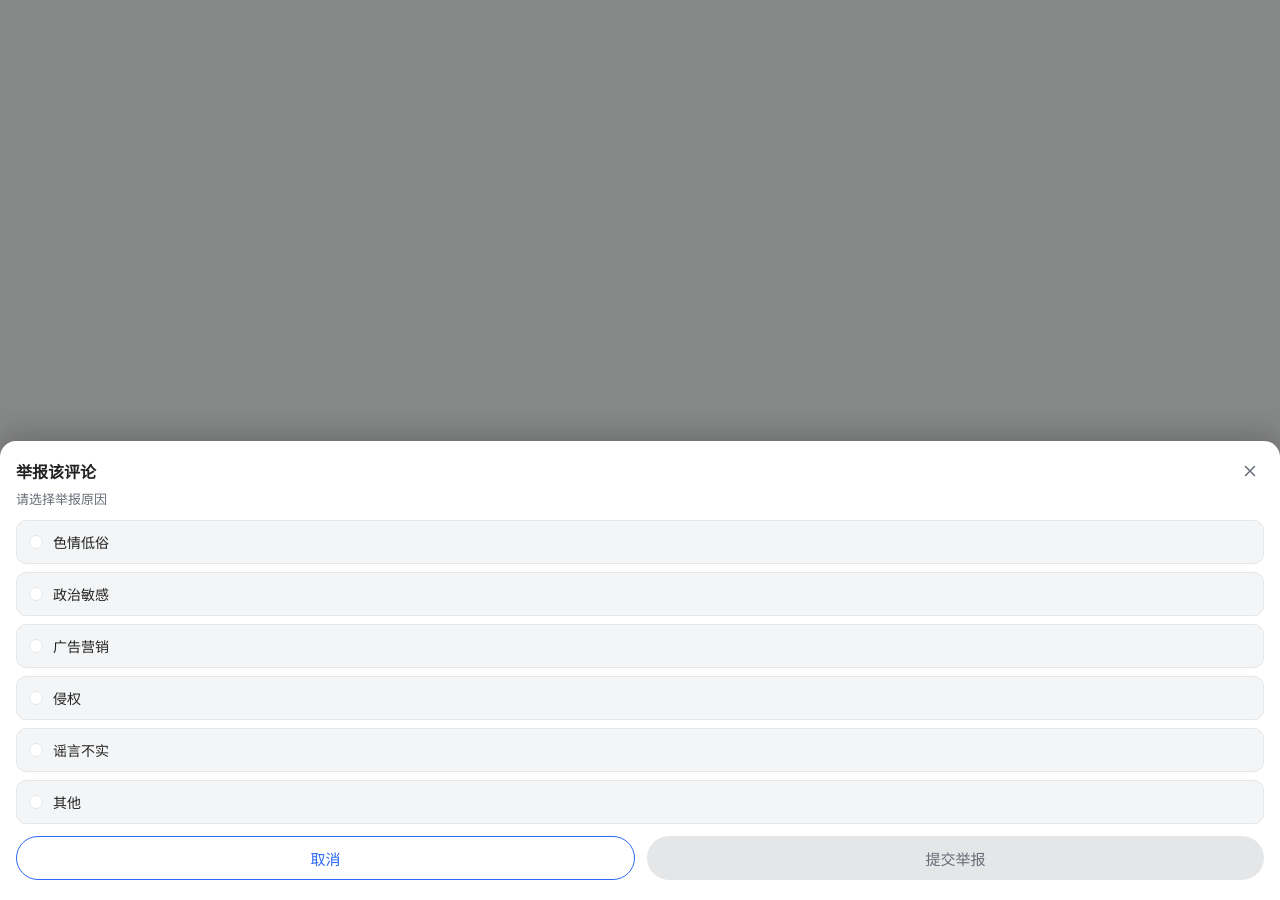
Test case: components/ReportDialog 举报分类弹窗 › 提交失败时显示服务端提示且停留在选择态（可改理由重试）
Click the radio button with class "reason" showing "政治敏感" at (81, 594), box [16, 572, 1264, 616]
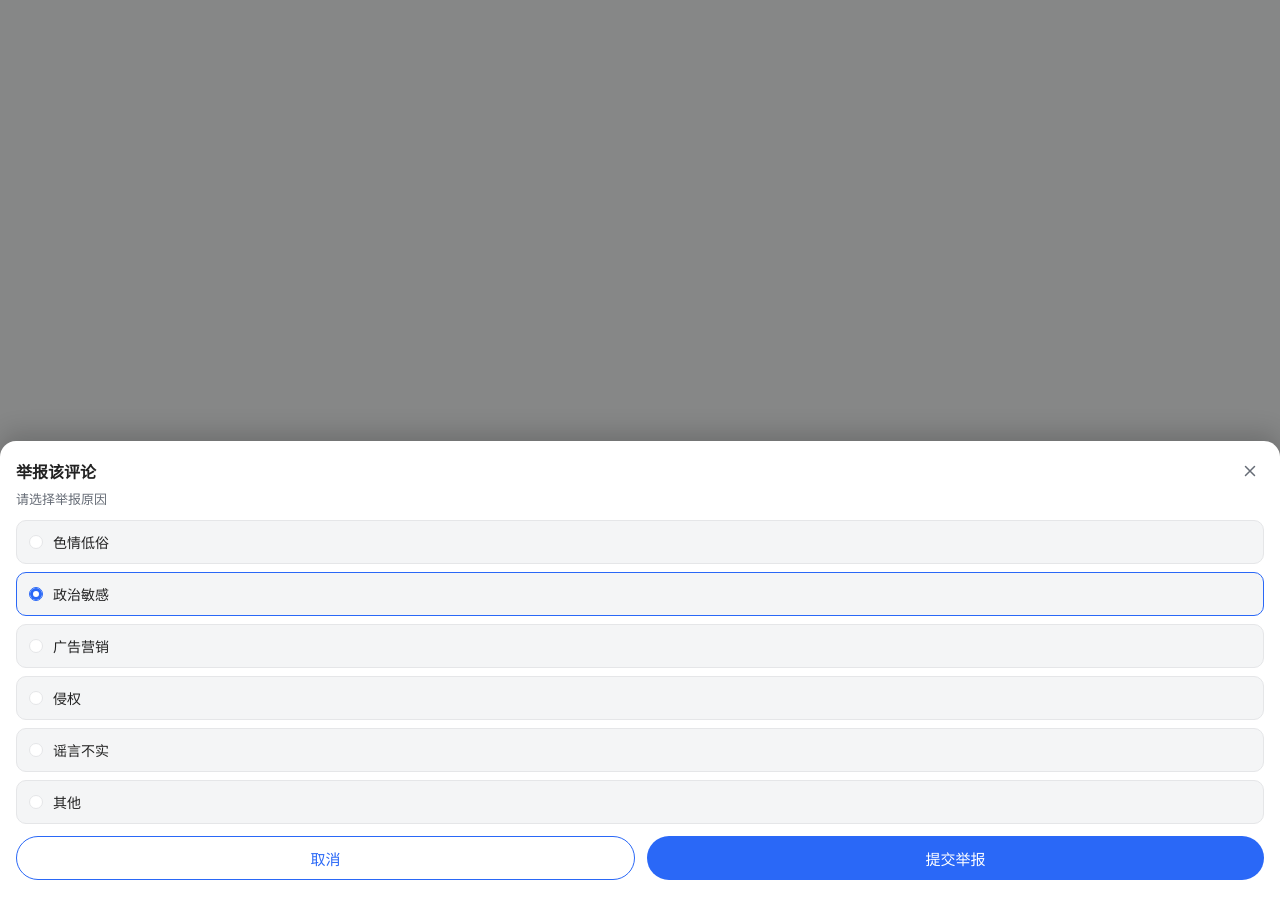
Click the button "提交举报" at (956, 858), box [647, 836, 1264, 880]
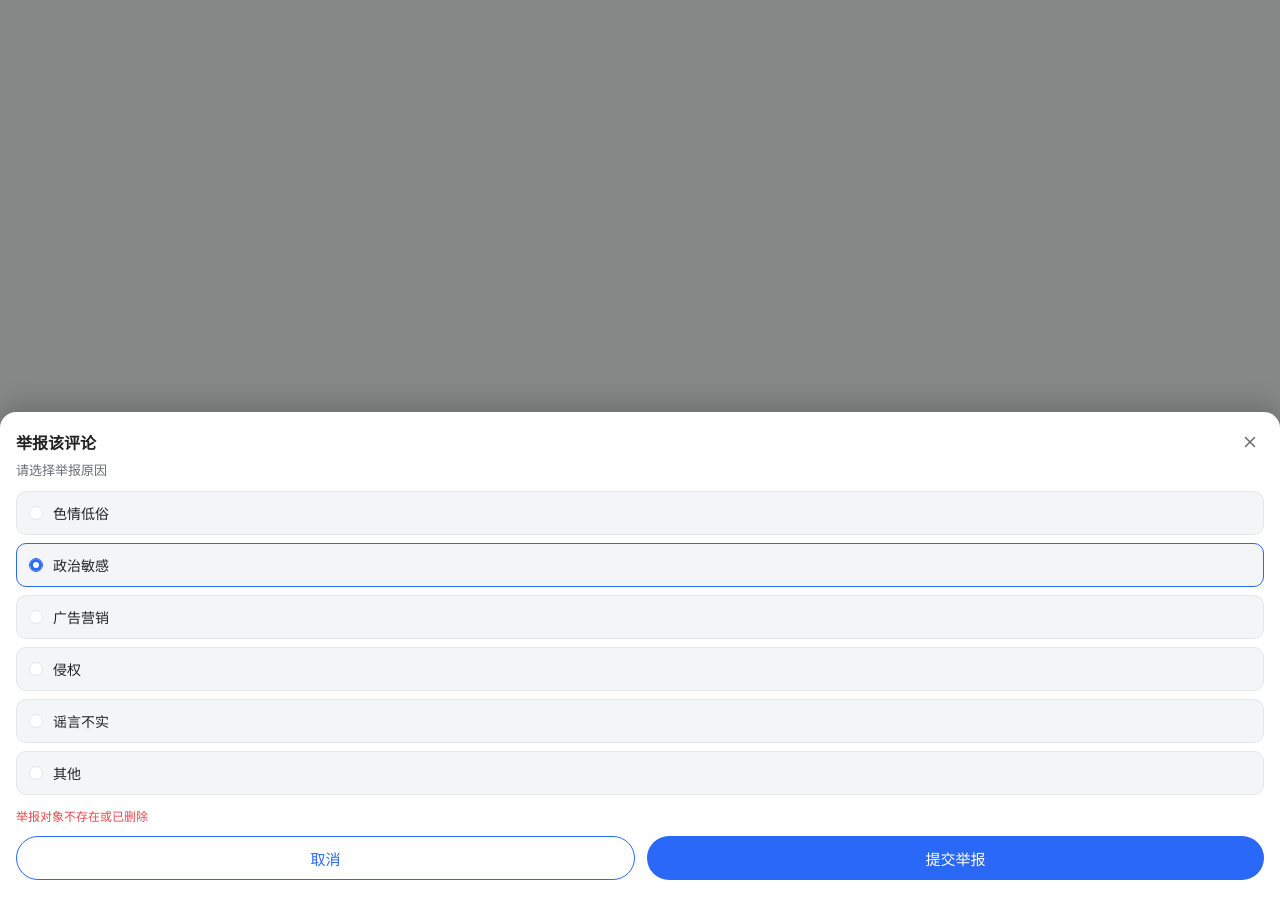
Expected: the number of radio buttons with class "reason" is 6, [16, 491, 1264, 535]; [16, 543, 1264, 587]; [16, 595, 1264, 639]; [16, 647, 1264, 691]; [16, 699, 1264, 743]; [16, 751, 1264, 795]
Now the text "举报对象不存在或已删除" is shown, box [16, 807, 148, 824]
